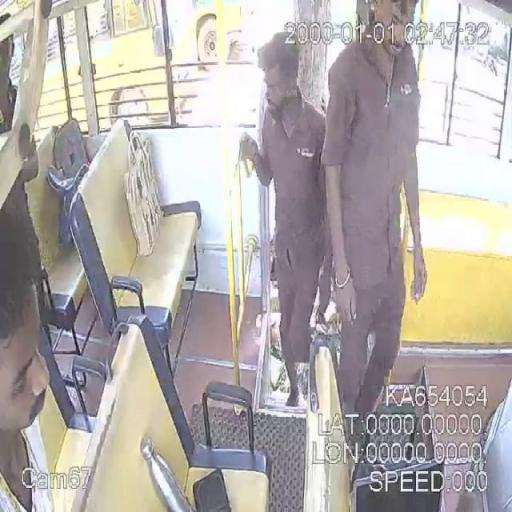persona: (319, 0, 429, 462), (240, 30, 330, 408), (0, 222, 55, 512)
